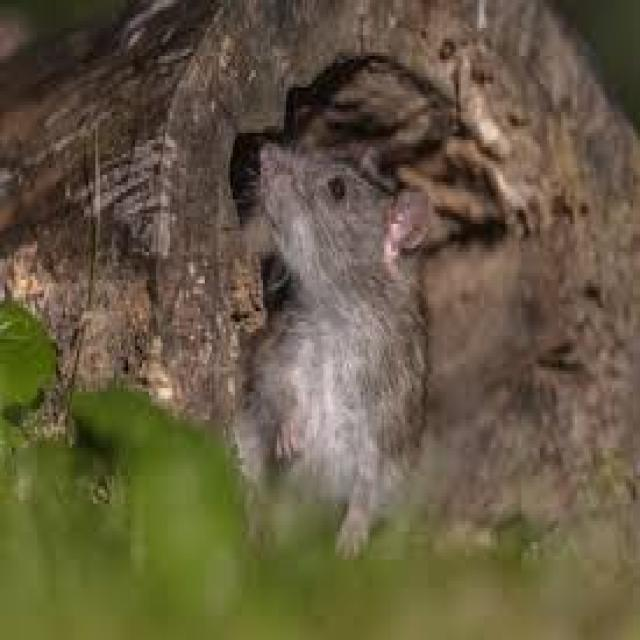Rat: (224, 91, 463, 551)
